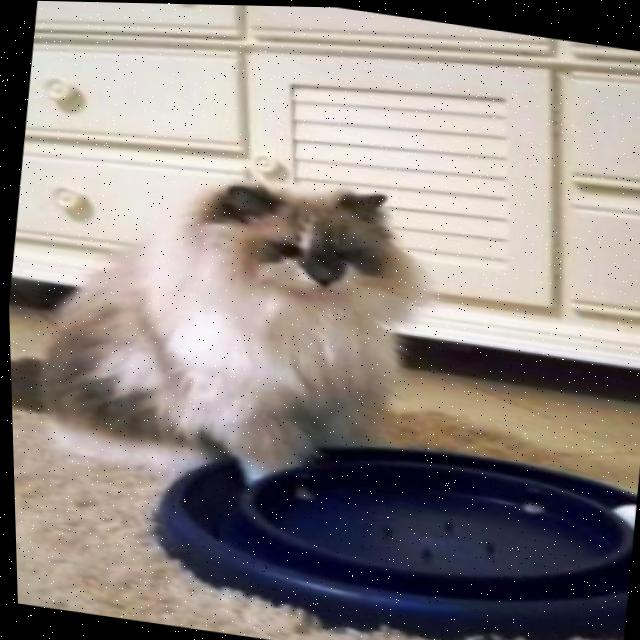Ragdoll: (3, 137, 453, 516)
